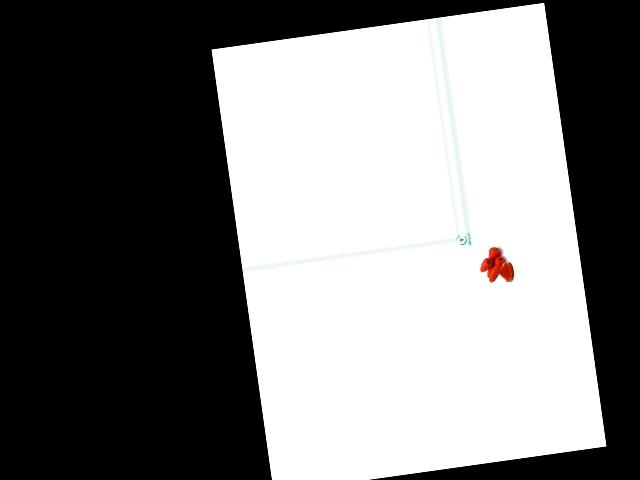carrot: (484, 256, 506, 284)
